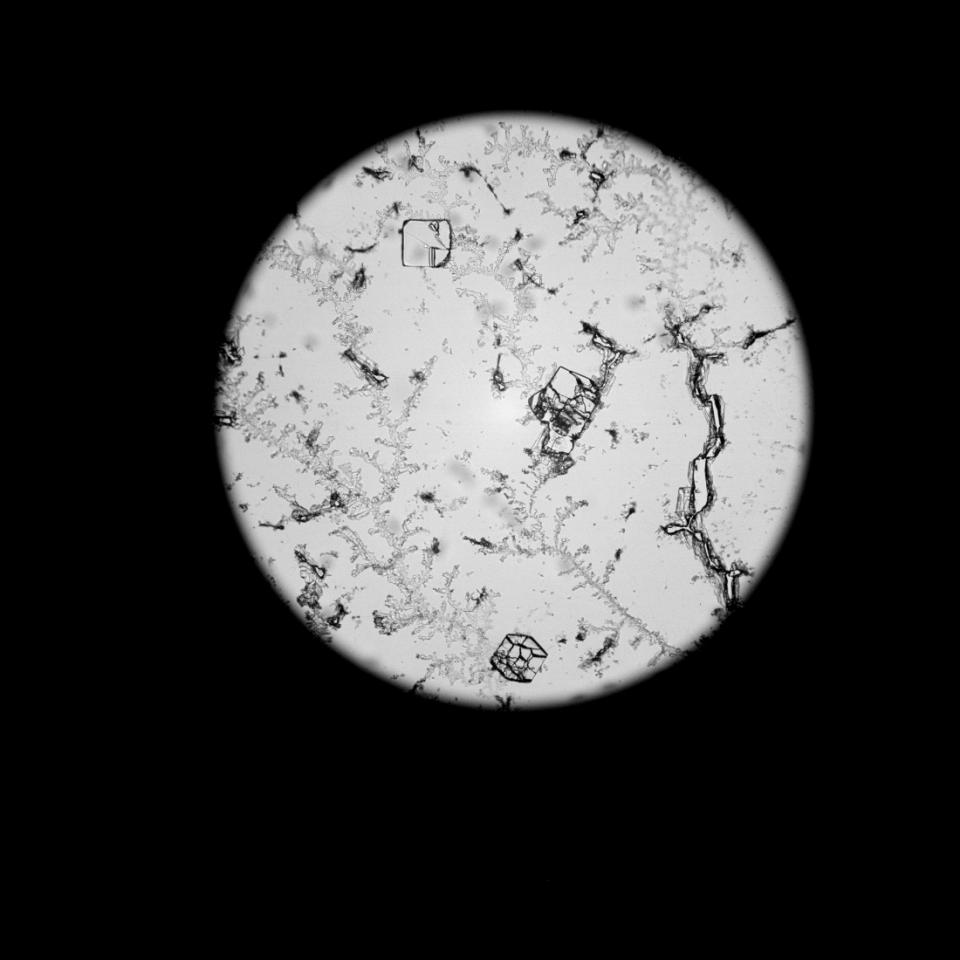crystal: (394, 215, 458, 276), (486, 632, 548, 687), (347, 266, 372, 292), (585, 168, 611, 187), (572, 208, 593, 221), (490, 372, 507, 384)
